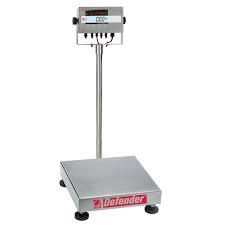Industrial Scale: (59, 6, 162, 222)
